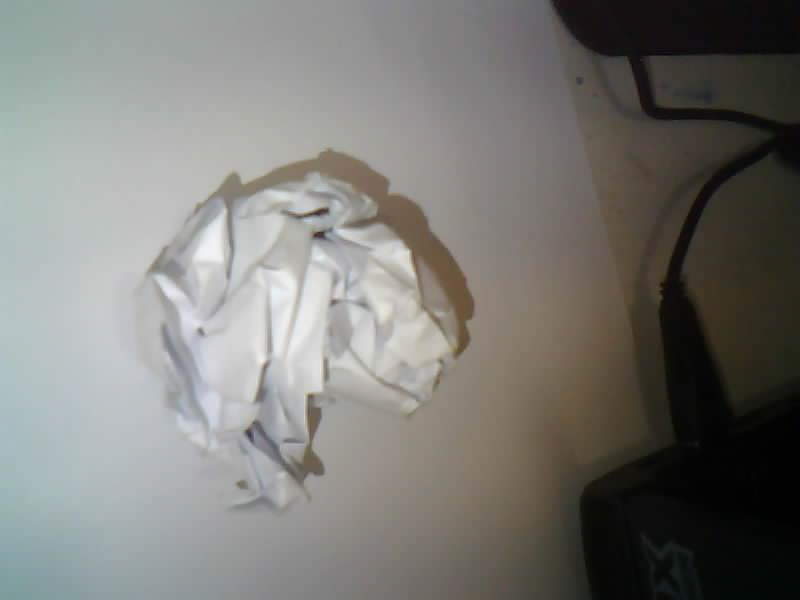biodegradable: (144, 173, 458, 507)
